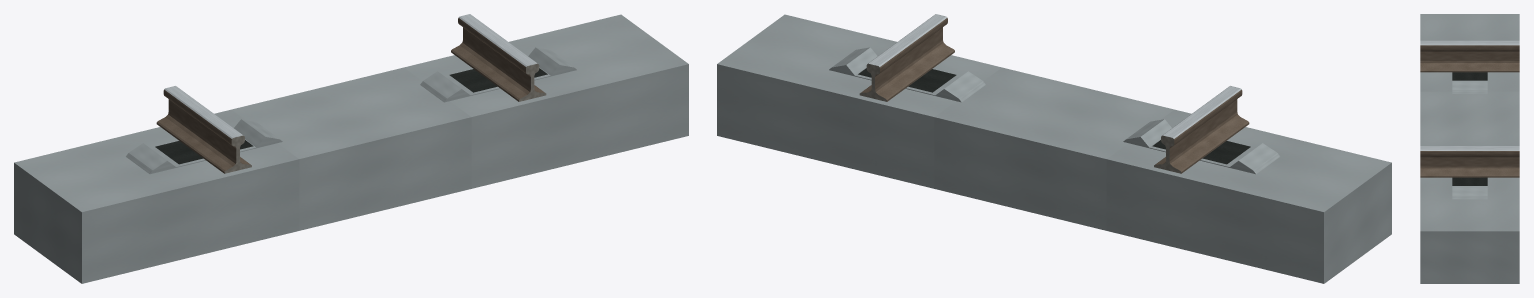
Rendered from slab_low.obj.
3 views of the same model, side by side, from view 1: azimuth 30°, elevation 25°; view 2: azimuth 150°, elevation 25°; view 3: azimuth 270°, elevation 25° (orthographic). The views are drawn at different scales.
Visible parts, largest first — view 1: slab_bed, rail_left, sleeper, rail_right, fastener_left, fastener_right; view 2: slab_bed, rail_left, sleeper, rail_right, fastener_left, fastener_right; view 3: slab_bed, rail_left, rail_right, sleeper, fastener_left, fastener_right.
Part boxes in pixels (box(x1,y1,x2,y2)): slab_bed: box(14, 14, 688, 283); rail_left: box(156, 86, 250, 173); sleeper: box(126, 47, 576, 174); rail_right: box(451, 14, 544, 101); fastener_left: box(155, 140, 253, 164); fastener_right: box(449, 68, 547, 92); slab_bed: box(717, 14, 1391, 283); rail_left: box(1155, 86, 1249, 173); sleeper: box(829, 47, 1279, 174); rail_right: box(861, 14, 954, 101); fastener_left: box(1152, 140, 1250, 164); fastener_right: box(858, 68, 956, 92); slab_bed: box(1420, 14, 1519, 283); rail_left: box(1420, 40, 1519, 72); rail_right: box(1420, 146, 1519, 177); sleeper: box(1452, 80, 1487, 199); fastener_left: box(1452, 72, 1487, 80); fastener_right: box(1452, 177, 1487, 185).
Size of the model in its own units: 3.1 by 0.5324 by 0.6.
